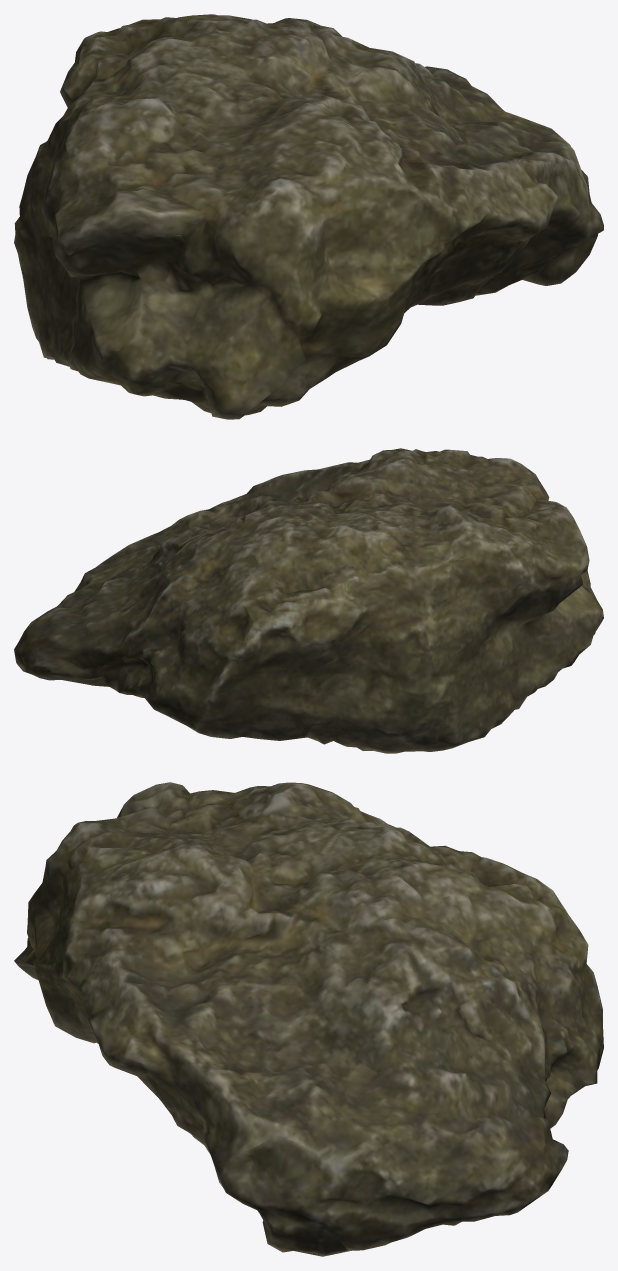
The model's file is moss_stone_12.glb.
3 renders of one model, top to bottom at view 1: azimuth 30°, elevation 25°; view 2: azimuth 150°, elevation 25°; view 3: azimuth 270°, elevation 25°, orthographic. The views are drawn at different scales.
Parts seen in each view (by area): view 1: moss_stone_12; view 2: moss_stone_12; view 3: moss_stone_12.
Boxes of the visible parts, x1,y1,x2,y2 form: moss_stone_12: (14,14,603,419); moss_stone_12: (14,448,603,753); moss_stone_12: (14,782,603,1256).
Size of the model in its own units: 1 by 0.466 by 0.9137.
Materials: 1 (1 with a texture image).
